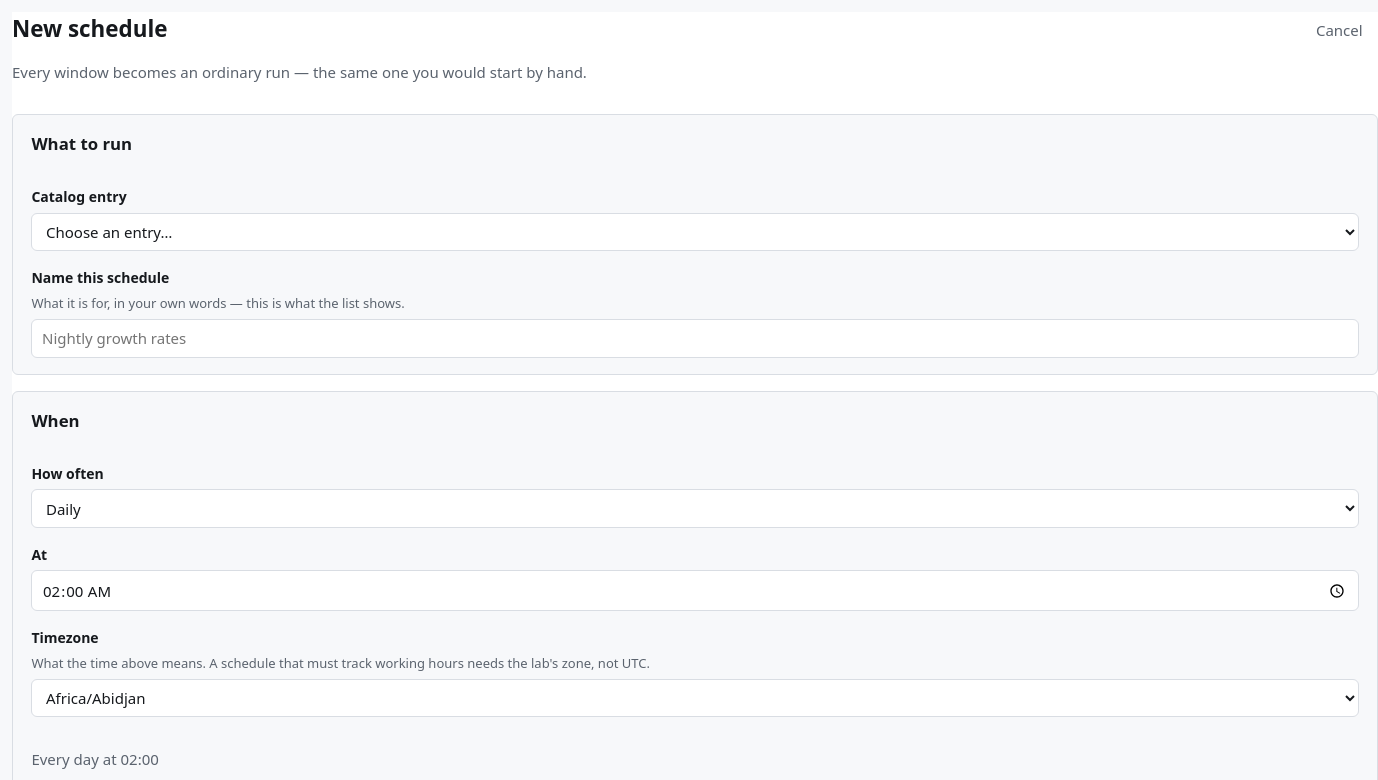
Scenario: composing a schedule › says what the rule means, read back from the rule itself
This screenshot has width=1378, height=780.
Select "Every few hours" in the dropdown labelled "How often" at (695, 509), box [31,490,1359,528]
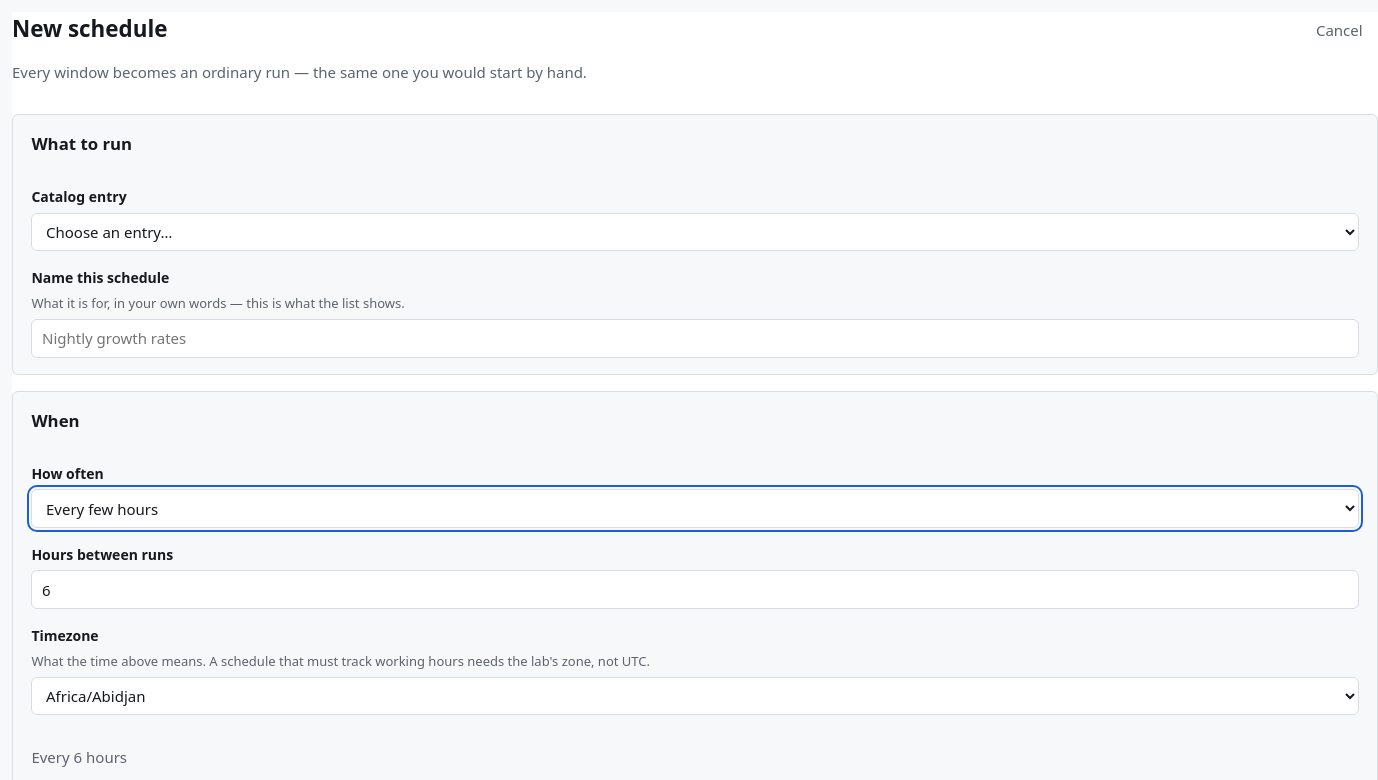
Now the text "Every 6 hours" is shown, box [31,747,127,767]
